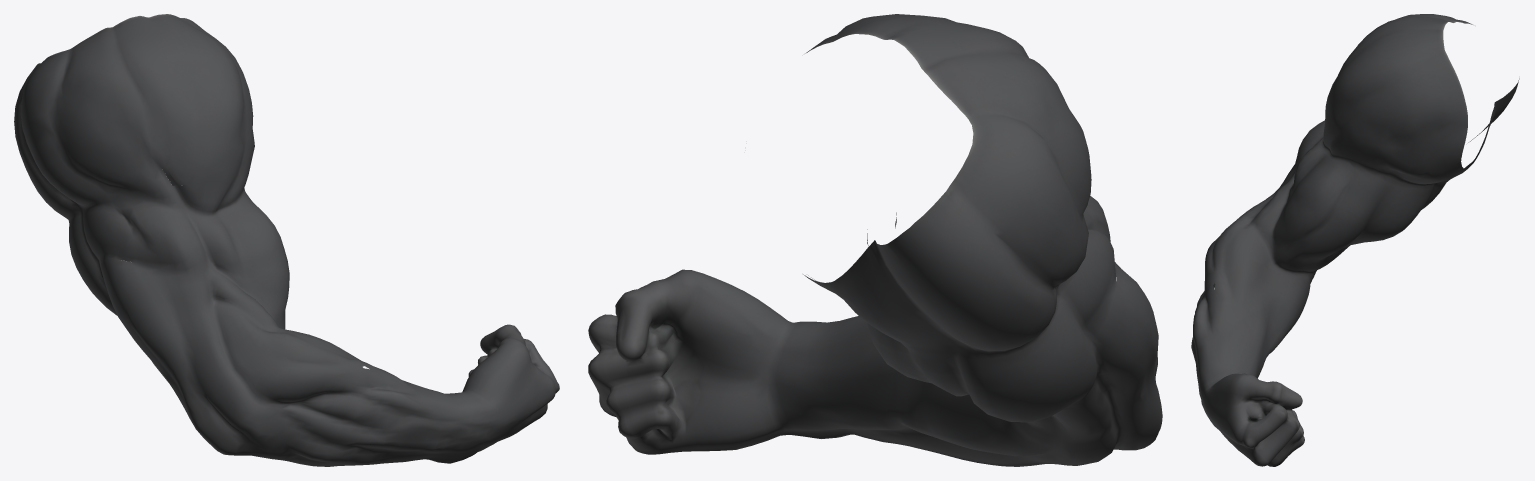
File: tripo-muscular-arm.glb
3 views of the same model, side by side, from view 1: azimuth 30°, elevation 25°; view 2: azimuth 150°, elevation 25°; view 3: azimuth 270°, elevation 25° (orthographic). The views are drawn at different scales.
Parts seen in each view (by area): view 1: tripo-muscular-arm; view 2: tripo-muscular-arm; view 3: tripo-muscular-arm.
Boxes of the visible parts, left/top/right/bottom form: tripo-muscular-arm: left=14, top=14, right=559, bottom=466; tripo-muscular-arm: left=588, top=14, right=1162, bottom=466; tripo-muscular-arm: left=1191, top=14, right=1519, bottom=466.
Size of the model in its own units: 0.6387 by 0.6 by 0.5332.
1 material, 1 textured.
